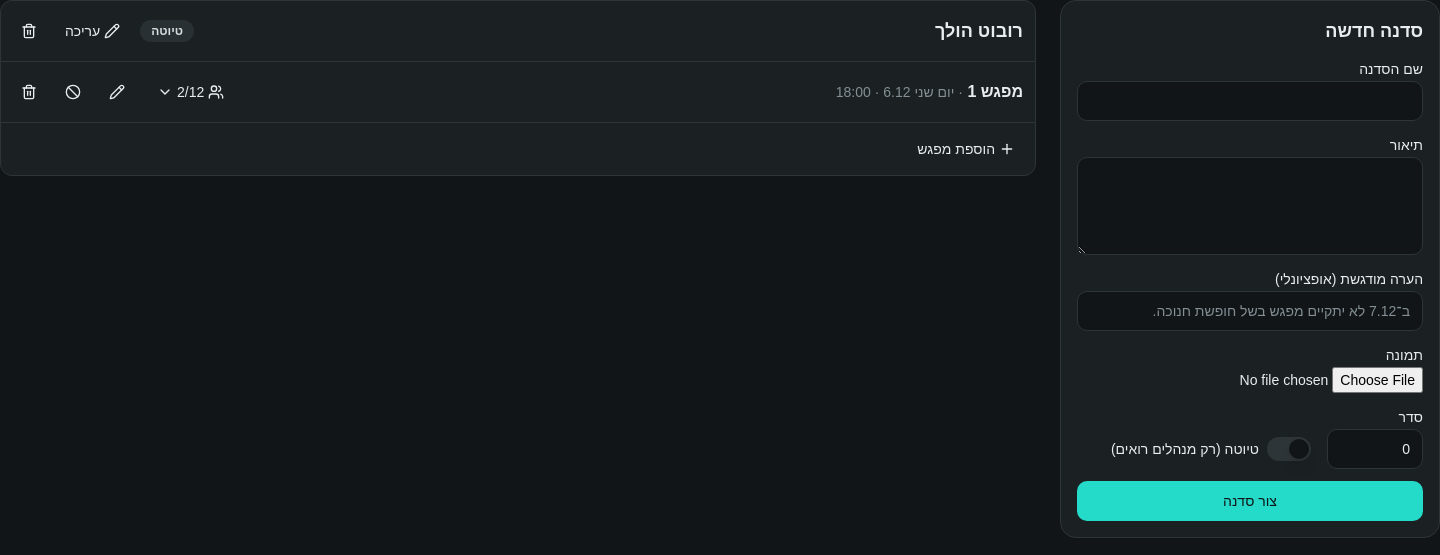
Test: WorkshopsManager › prefills a new meeting one week after the last one
Click the button "הוספת מפגש" at (966, 149), box [905, 131, 1027, 167]
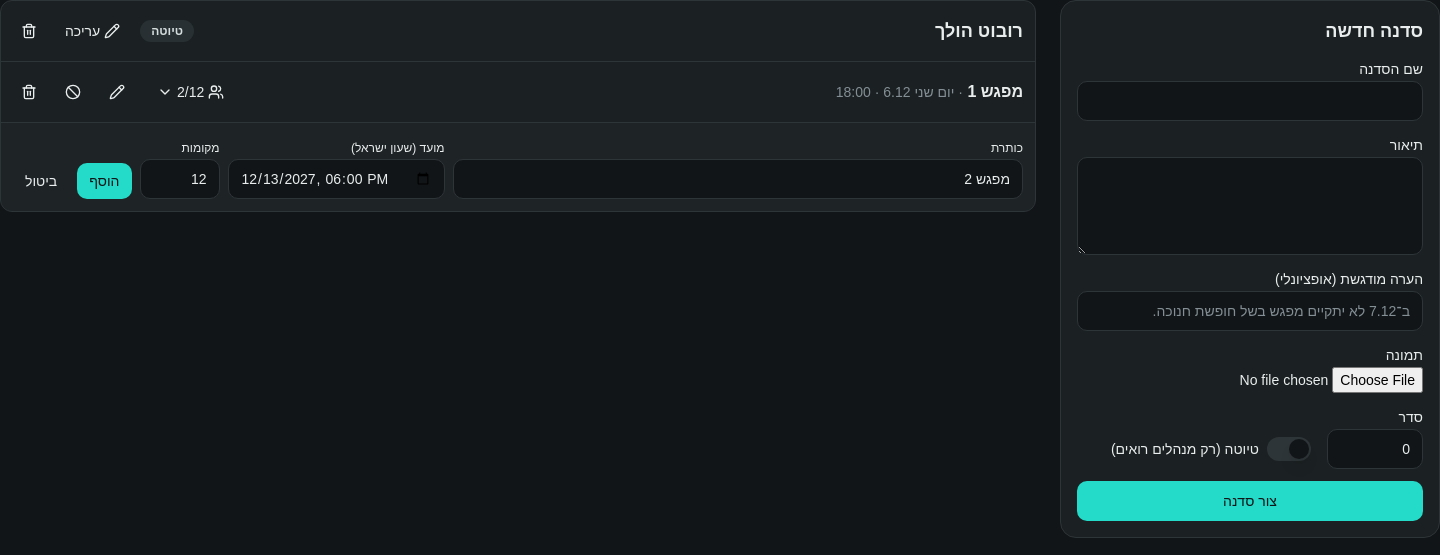
Now the field showing "מפגש 2" below "כותרת" is shown, box [452, 159, 1023, 199]
Now the field showing "2027-12-13T18:00" below "מועד (שעון ישראל)" is shown, box [228, 159, 444, 199]
